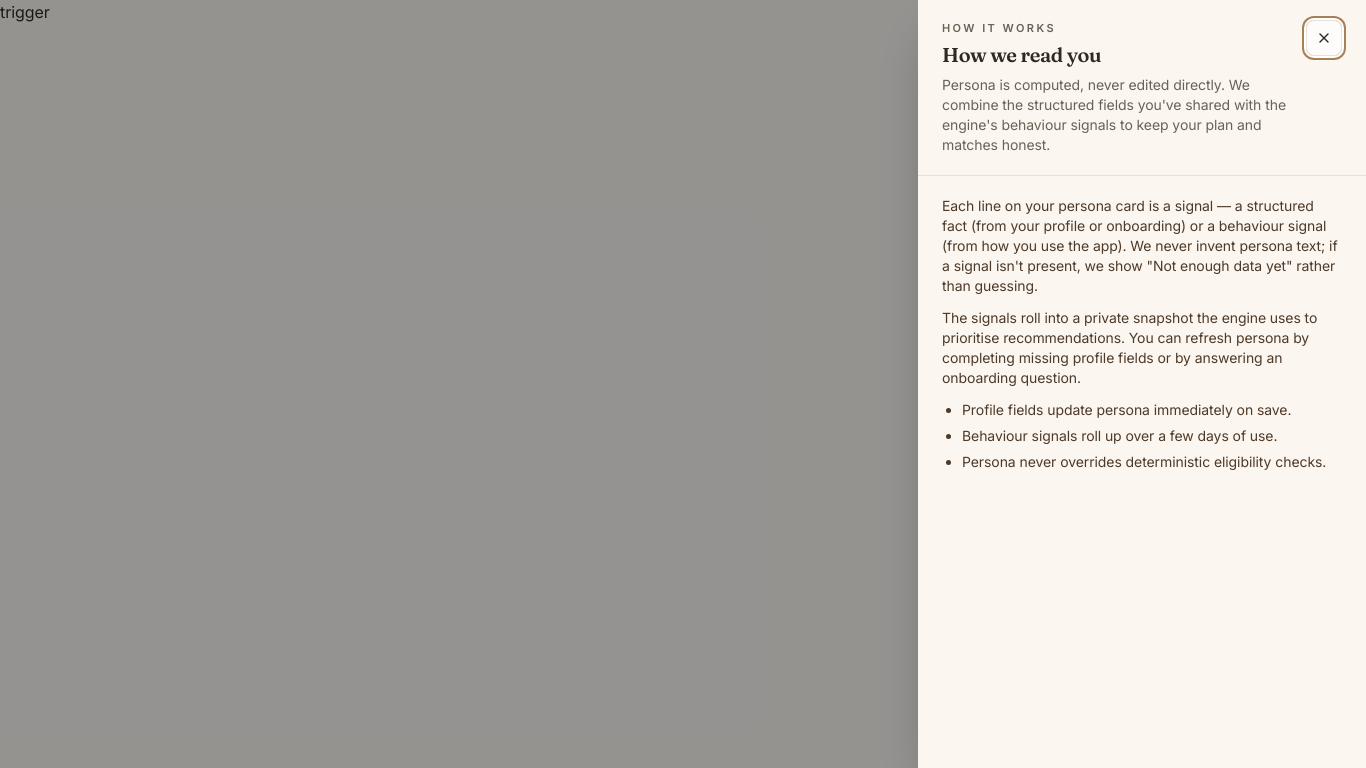
Test: close button closes the drawer
Click the button with test id "how-it-works-close".
click(1324, 38)  # box x1=1306 y1=20 x2=1342 y2=56
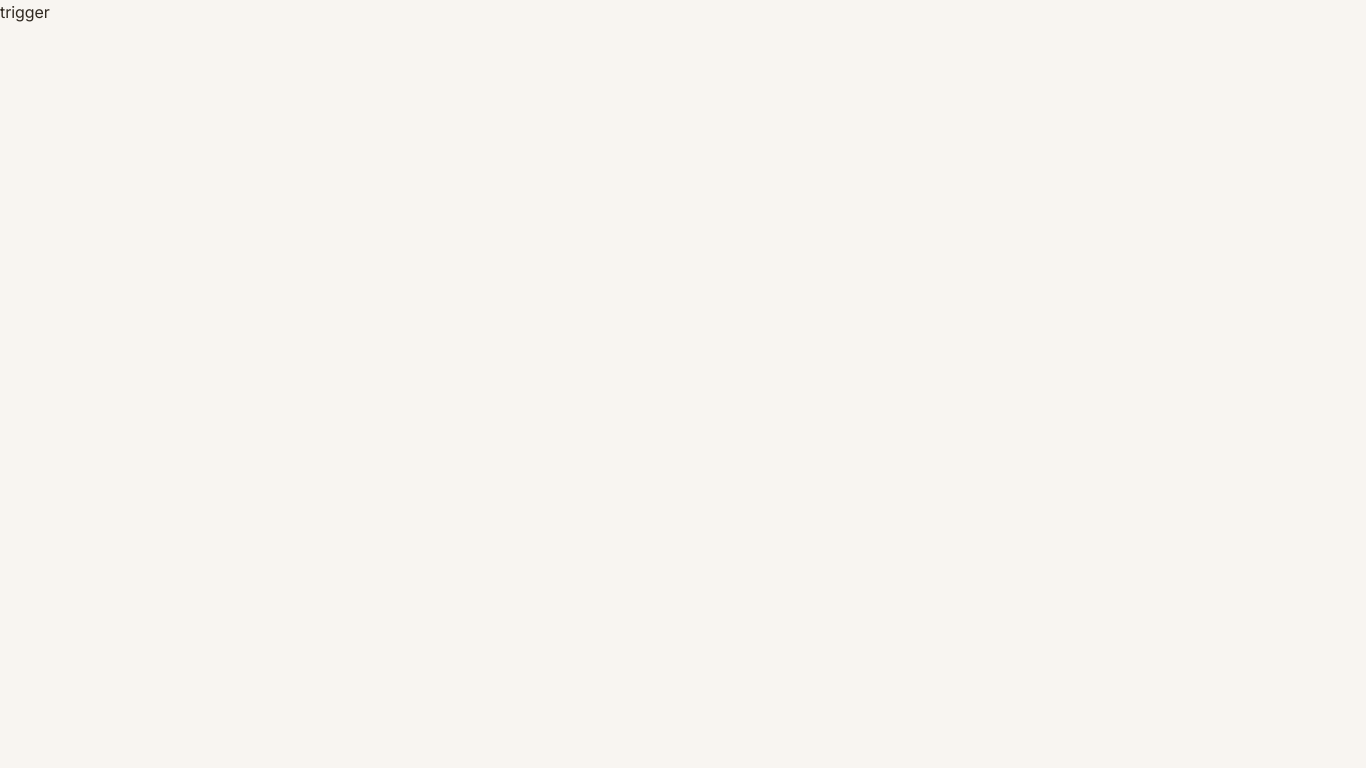
Result: the element with test id "how-it-works-drawer-root" is gone
